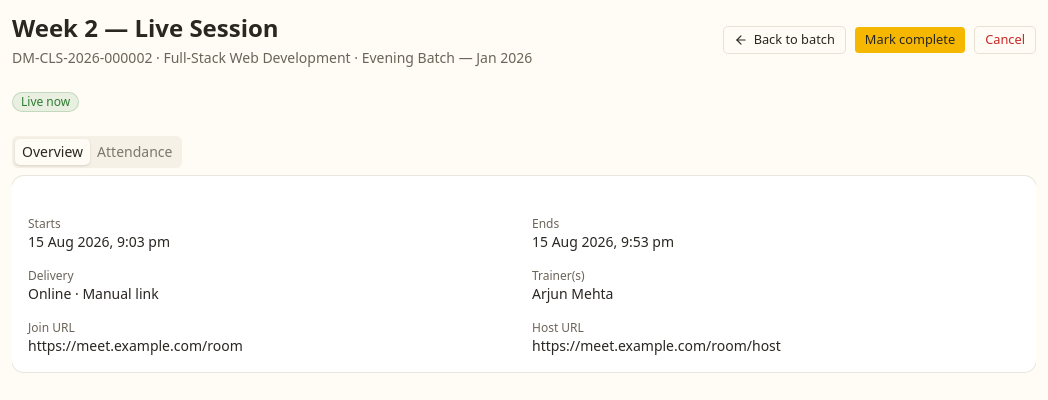
it: LiveClassDetailPage › marks a student present in the Attendance tab, saves, then finalizing marks the rest ABSENT
Expected: the heading "Week 2 — Live Session" is shown, [12, 11, 279, 44]
Click the tab "Attendance": click(135, 152) [90, 139, 179, 165]
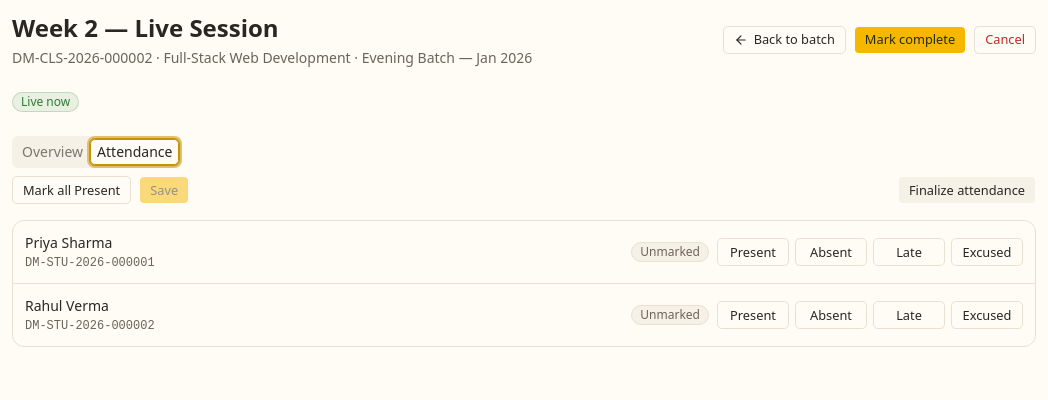
Now the text "Priya Sharma" is shown, box [25, 233, 112, 252]
Click the button "Present" in the row of "Priya Sharma": click(753, 252) [717, 238, 789, 266]
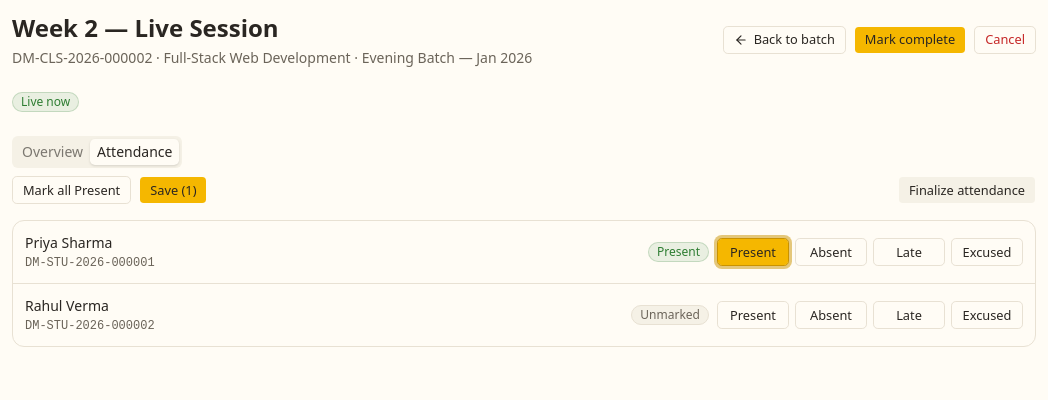
Click the button "Save (1)": click(173, 190) [139, 176, 208, 204]
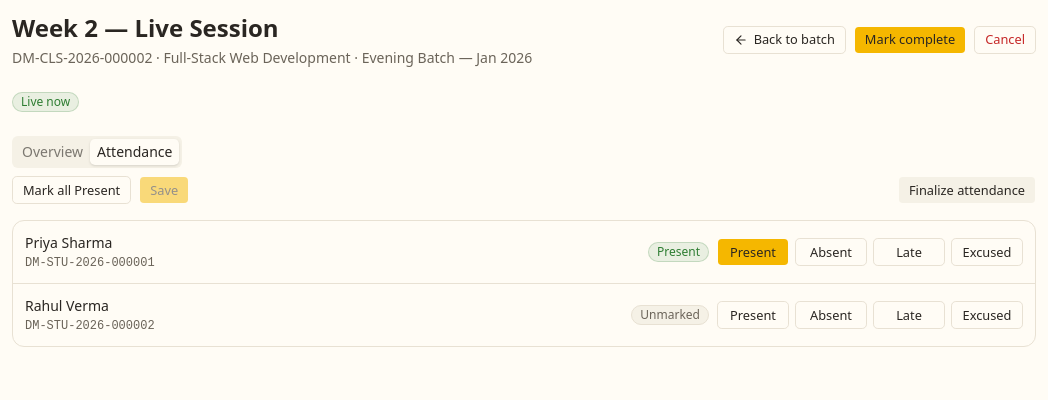
Now the text "Present" is shown, box [648, 242, 709, 262]
Click the button "Finalize attendance": click(967, 190) [898, 176, 1036, 204]
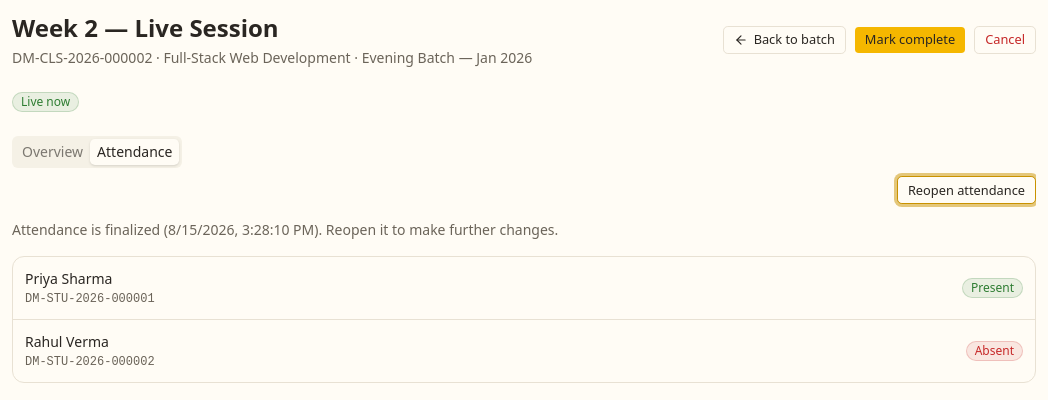
Now the text "Attendance is finalized" is shown, box [12, 220, 160, 239]
Now the icon "Absent" is shown, box [966, 341, 1023, 361]
